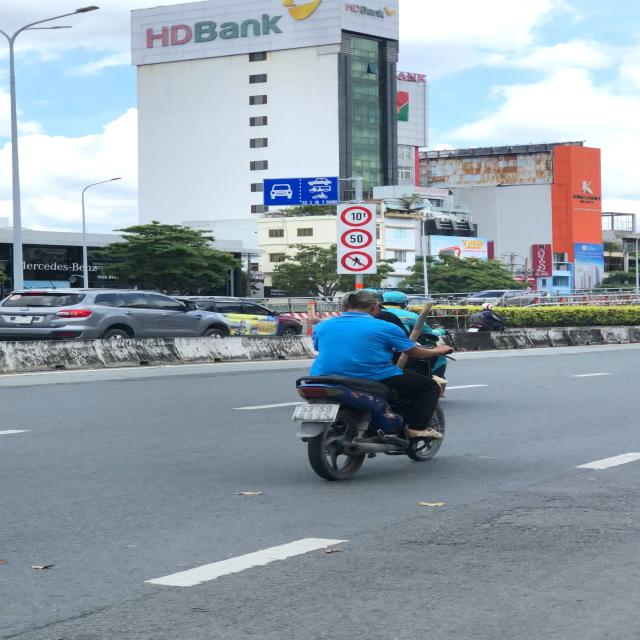Bien bao cam nguoi di bo: (340, 250, 376, 274)
Bien bao toc do toi da cho phep: (340, 228, 376, 250)
